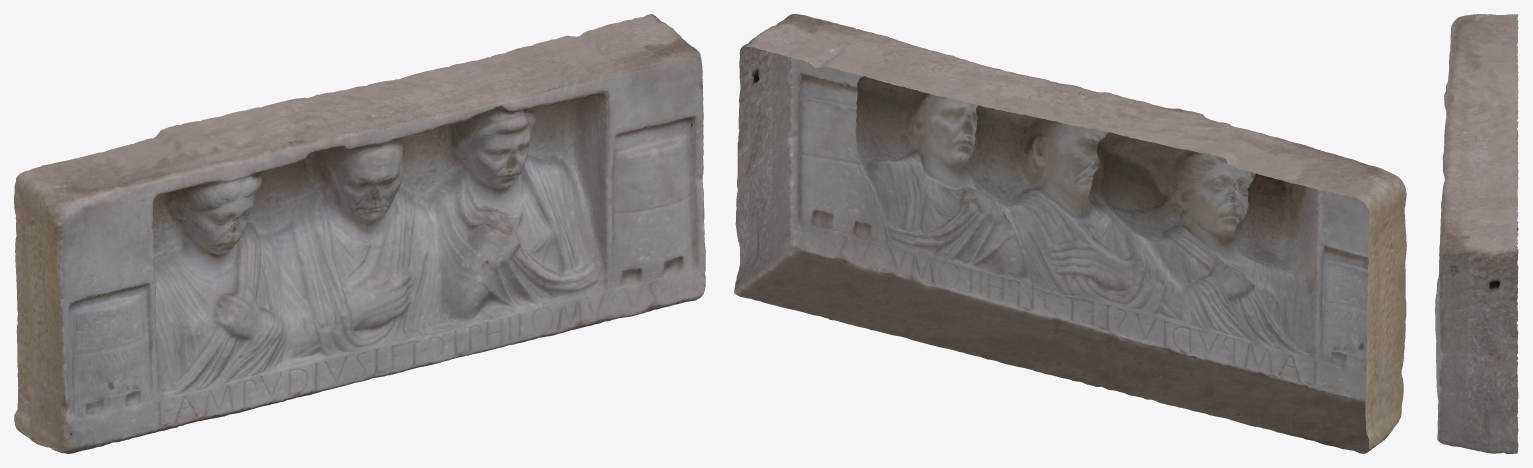
Rendered from stone_runerary_relief.glb.
The picture shows the model from 3 angles, left to right: view 1: azimuth 30°, elevation 25°; view 2: azimuth 150°, elevation 25°; view 3: azimuth 270°, elevation 25°; orthographic projection. The views are drawn at different scales.
Parts seen in each view (by area): view 1: StoneRuneraryRelief; view 2: StoneRuneraryRelief; view 3: StoneRuneraryRelief.
Part boxes in pixels (bbox=[...]): StoneRuneraryRelief: bbox=[14, 14, 705, 453]; StoneRuneraryRelief: bbox=[734, 14, 1406, 453]; StoneRuneraryRelief: bbox=[1435, 14, 1518, 453].
Size of the model in its own units: 3747 by 1476 by 537.
Materials: 1 (1 with a texture image).
